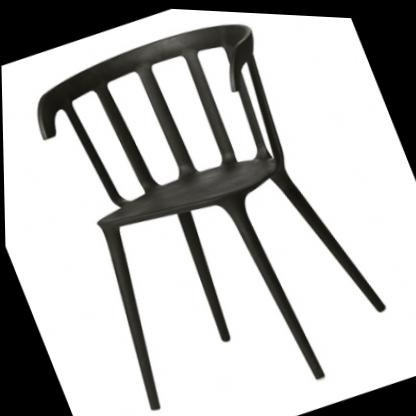Chair: (12, 0, 406, 416)
